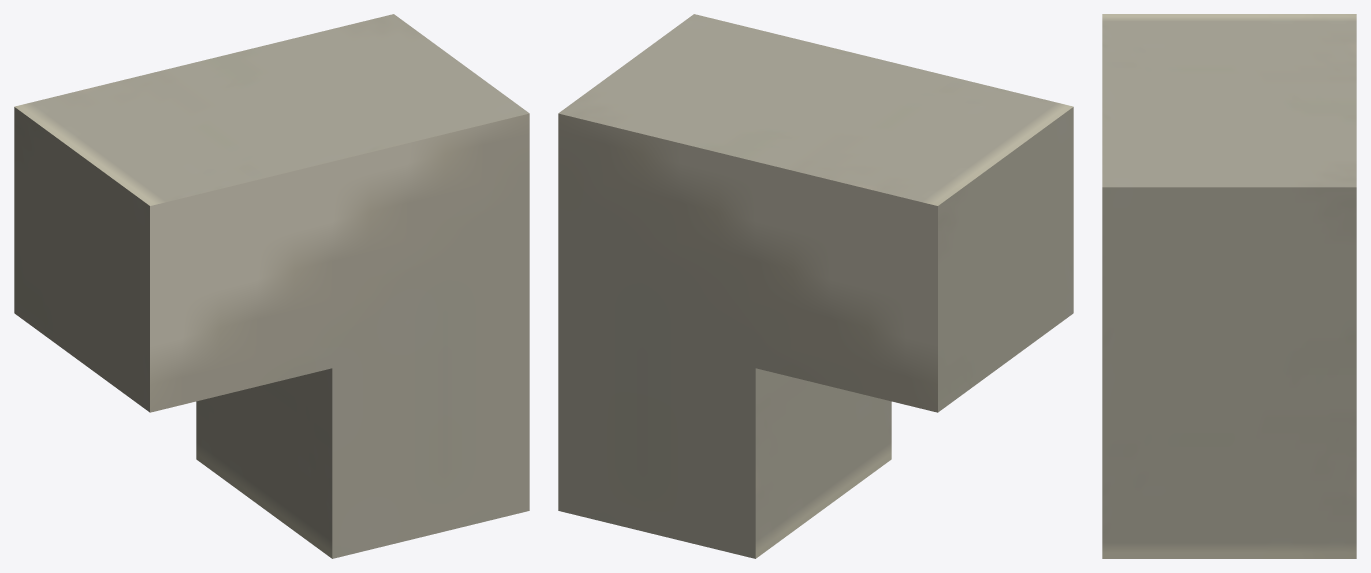
Rendered from pz_counter_white_wall_corner.obj.
3 views of the same model, side by side, from view 1: azimuth 30°, elevation 25°; view 2: azimuth 150°, elevation 25°; view 3: azimuth 270°, elevation 25° (orthographic). The views are drawn at different scales.
Bounding box in the file's own units: 1 × 1 × 0.62.
Materials: 1 (1 with a texture image).
